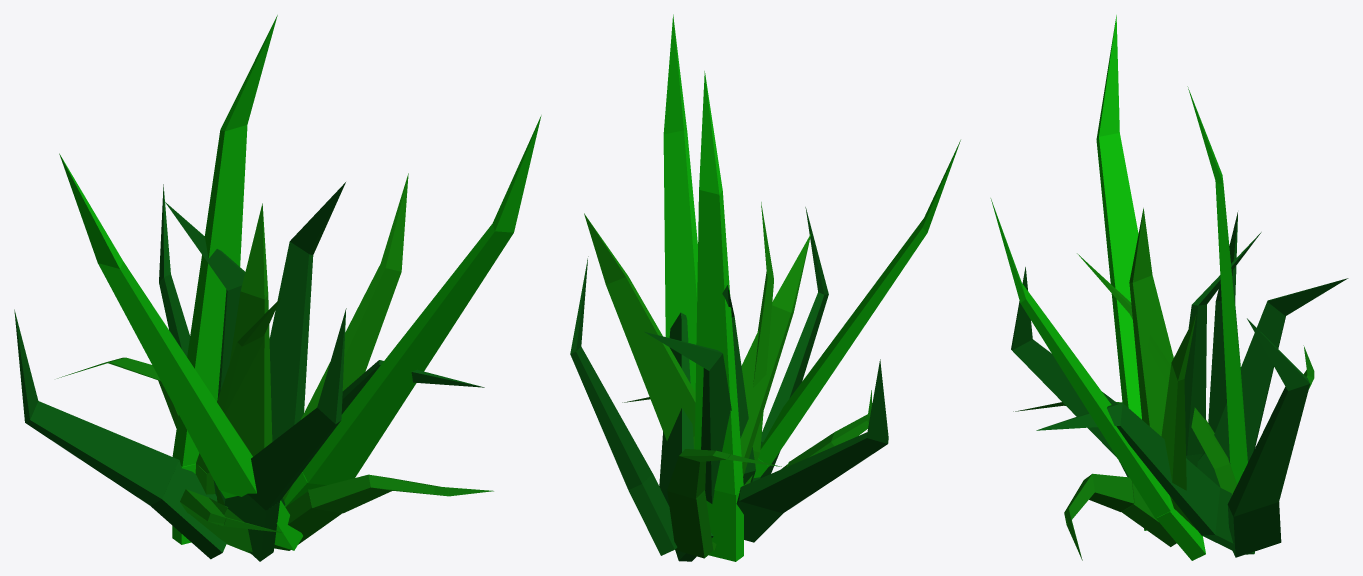
The model's file is RumputFBX.fbx.
3 renders of one model, left to right at view 1: azimuth 30°, elevation 25°; view 2: azimuth 150°, elevation 25°; view 3: azimuth 270°, elevation 25°, orthographic. The views are drawn at different scales.
Visible parts, largest first — view 1: Cube.001_Cube.002; view 2: Cube.001_Cube.002; view 3: Cube.001_Cube.002.
Boxes of the visible parts, bbox=[...] form: Cube.001_Cube.002: bbox=[14, 15, 541, 561]; Cube.001_Cube.002: bbox=[570, 14, 960, 561]; Cube.001_Cube.002: bbox=[990, 15, 1348, 560].
Size of the model in its own units: 729 by 914 by 624.
